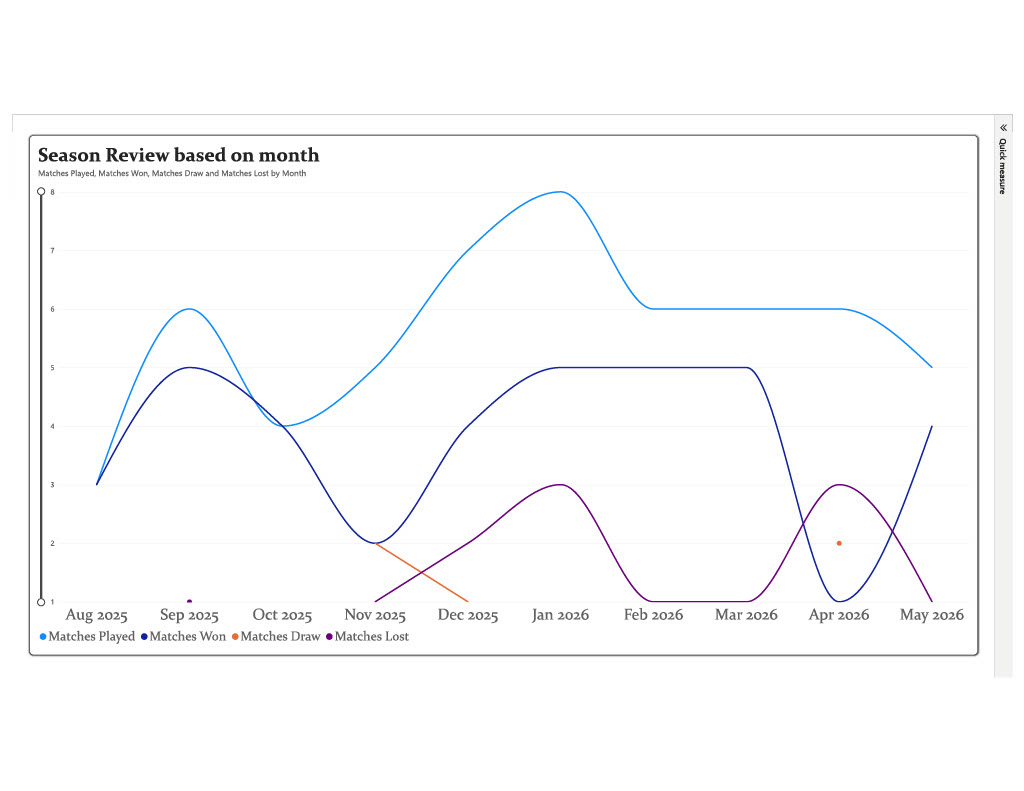

Layout of this report page (visuals, bound fields, positions):
{"tool":"powerbi","page":{"name":"Page 2","canvas":[1920,1080],"ordinal":1},"visuals":[{"type":"lineChart","title":"Season Review based on month","fields":{"Category":["Matches.Month"],"Y":["Matches.Matches Played","Matches.Matches Won","Matches.Matches Draw","Matches.Matches Lost"]},"box":[32.5,30,1855.6,1016.7],"z":0}]}

Visuals, with their boxes in screenshot pixels (x1, y1, x2, y2):
"Season Review based on month" lineChart: <box>38,135,979,651</box>
